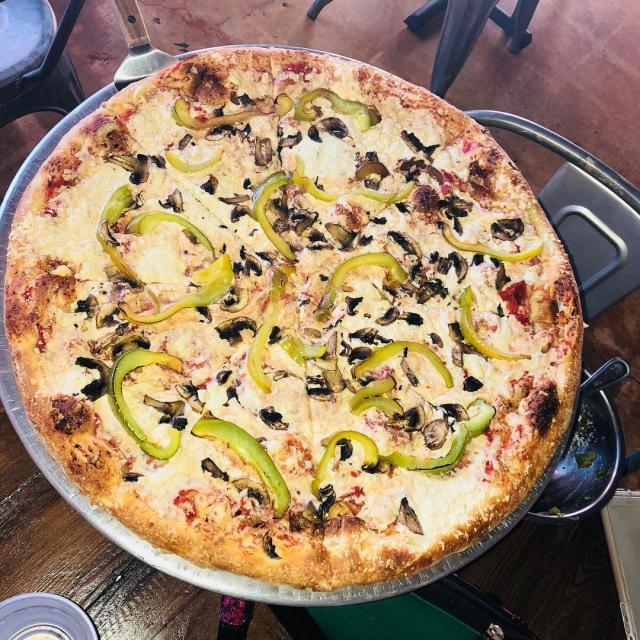mushrooms: (385, 226, 442, 299), (220, 250, 274, 316), (400, 127, 447, 190), (326, 218, 369, 265), (77, 354, 117, 404), (110, 144, 155, 187), (311, 482, 344, 538), (102, 258, 148, 298), (217, 182, 256, 228), (99, 328, 149, 362), (142, 391, 189, 427), (388, 494, 427, 536), (222, 314, 264, 352), (352, 148, 389, 190), (342, 325, 381, 364), (304, 114, 350, 147), (293, 203, 327, 246), (392, 400, 430, 434), (199, 455, 234, 491), (419, 416, 454, 451), (376, 304, 421, 331), (74, 294, 104, 332), (257, 395, 284, 436), (249, 132, 276, 168), (343, 290, 371, 321), (209, 110, 233, 143), (163, 189, 193, 215)
peppers: (193, 411, 300, 521), (110, 348, 186, 465), (397, 404, 500, 472), (291, 158, 414, 205), (114, 276, 236, 323), (98, 184, 155, 284), (460, 285, 528, 362), (352, 336, 453, 386), (438, 221, 541, 264), (328, 248, 413, 299), (314, 429, 377, 496), (259, 172, 306, 261), (128, 210, 215, 257), (174, 98, 294, 128), (294, 82, 374, 126), (240, 304, 278, 388), (347, 380, 402, 420), (162, 143, 232, 174), (280, 328, 312, 363)
pizza: (0, 44, 585, 607)
